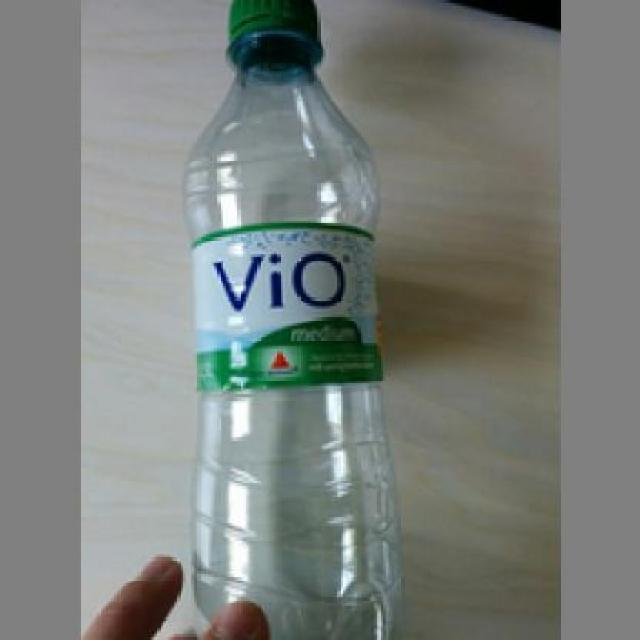Water: (177, 0, 406, 637)
